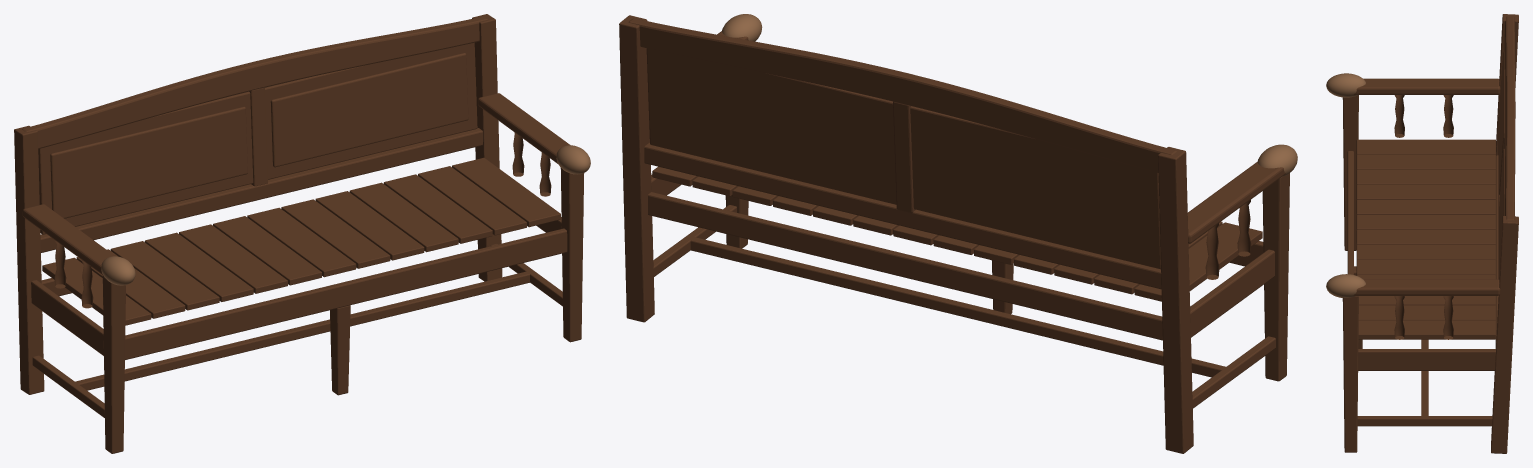
Rendered from Salon_GheDai.glb.
The picture shows the model from 3 angles, left to right: view 1: azimuth 30°, elevation 25°; view 2: azimuth 150°, elevation 25°; view 3: azimuth 270°, elevation 25°; orthographic projection. The views are drawn at different scales.
Visible parts, largest first — view 1: geometry_0; view 2: geometry_0; view 3: geometry_0.
Boxes of the visible parts, left/top/right/bottom form: geometry_0: left=14, top=14, right=590, bottom=453; geometry_0: left=619, top=14, right=1297, bottom=453; geometry_0: left=1326, top=14, right=1518, bottom=453.
Bounding box in the file's own units: 1.7 × 0.8997 × 0.6511.
